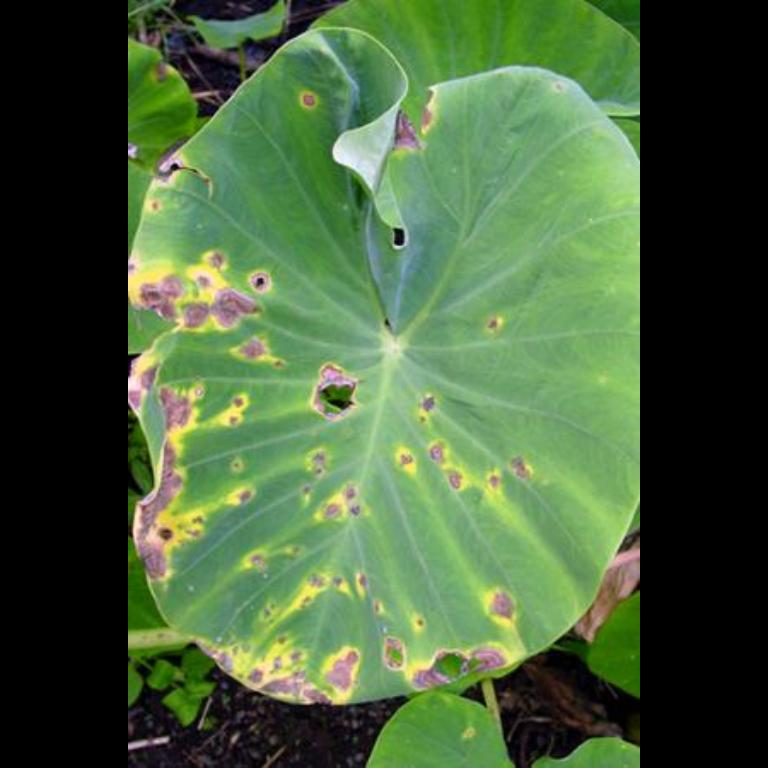blight: (128, 263, 270, 592)
